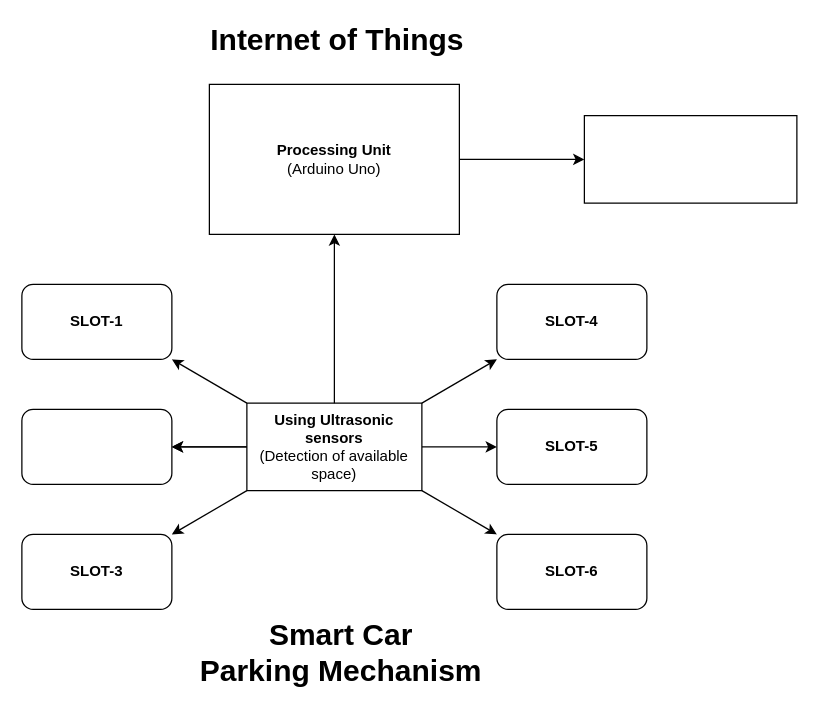
The diagram is 819 pixels wide and 718 high, and some of its shapes have lost their labels. Each missing label, with the centre of its shape:
SLOT-2: point (96, 446)
Smart Display (Displays total no of parking slots available and its slot number): point (690, 158)
